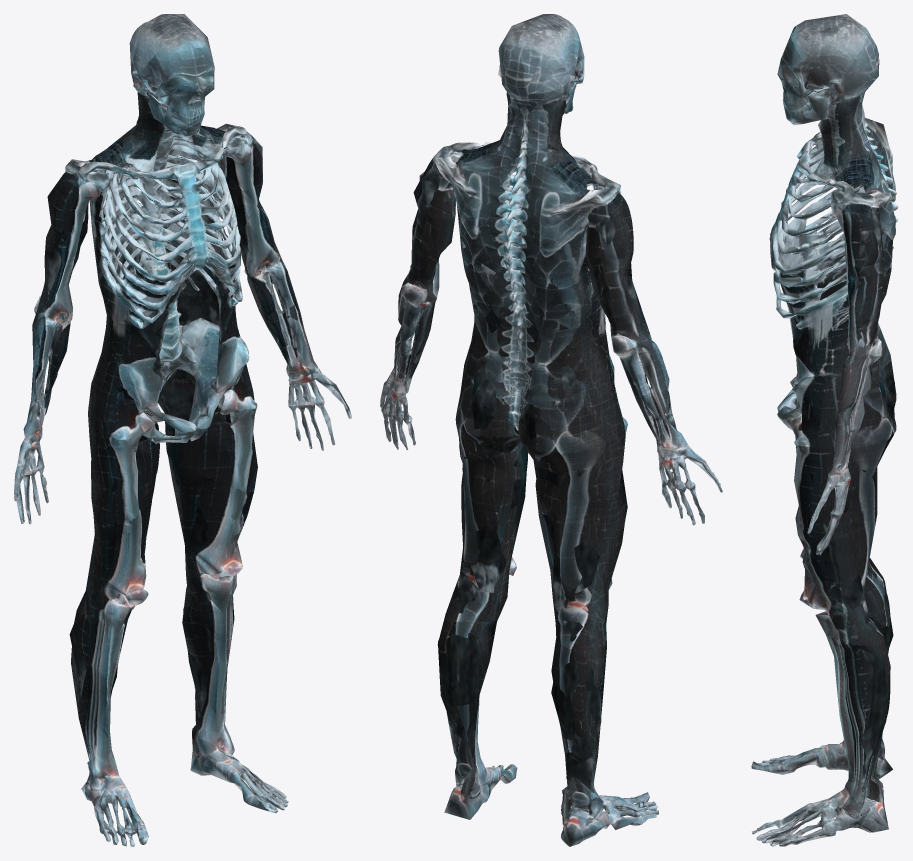
Rendered from body.glb.
3 renders of one model, left to right at view 1: azimuth 30°, elevation 25°; view 2: azimuth 150°, elevation 25°; view 3: azimuth 270°, elevation 25°, orthographic.
Parts seen in each view (by area): view 1: body; view 2: body; view 3: body.
Part boxes in pixels (left/top/right/bottom): body: left=14, top=14, right=351, bottom=846; body: left=380, top=14, right=722, bottom=846; body: left=751, top=14, right=898, bottom=846.
Bounding box in the file's own units: 0.8533 × 1.9 × 0.3218.
1 material, 1 textured.
